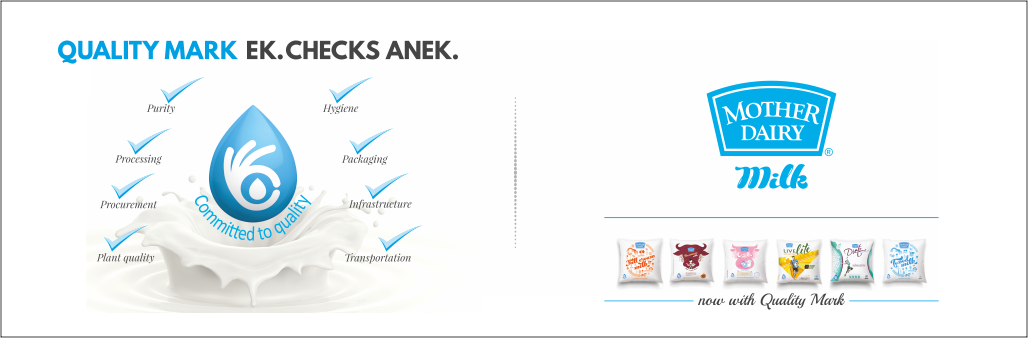Mother_Dairy: (683, 68, 847, 162)
